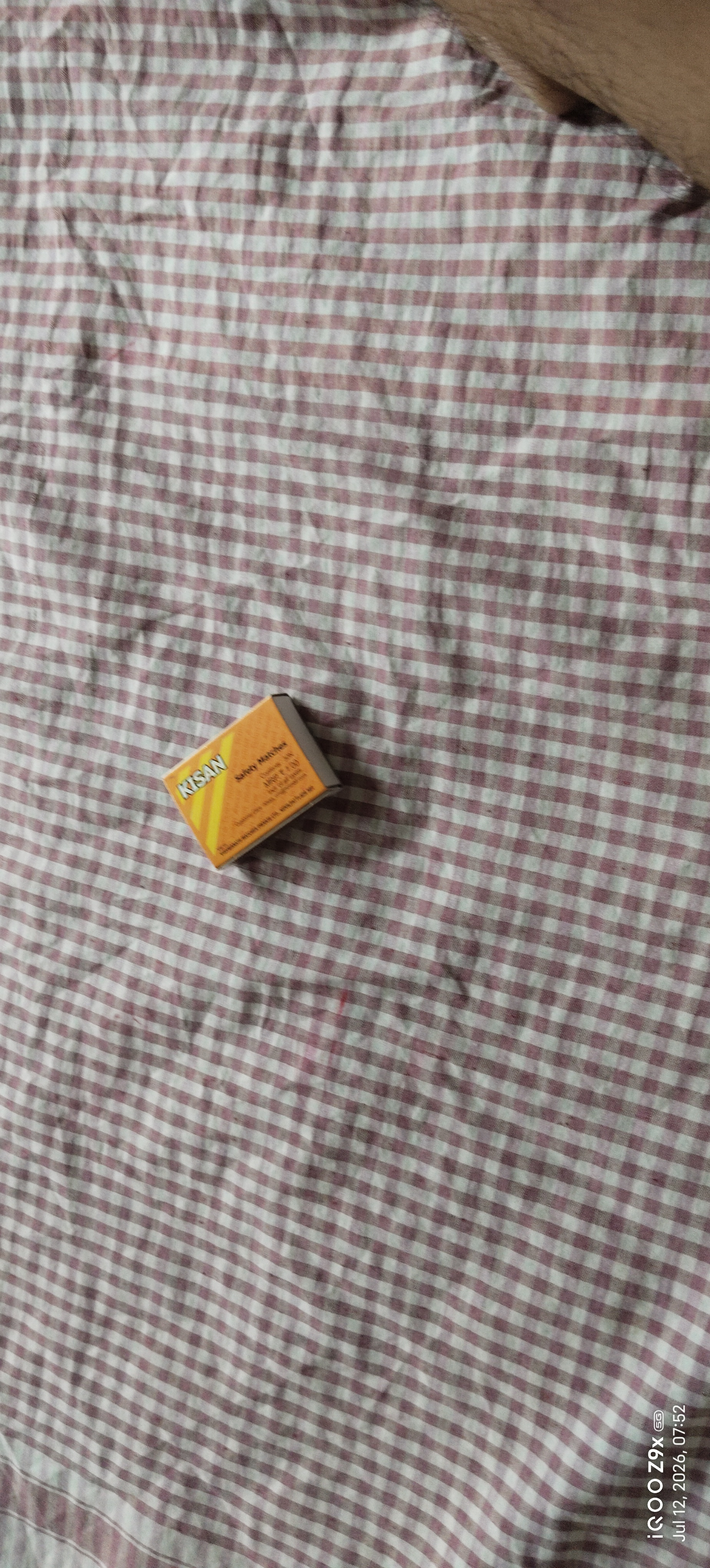matchbox: (113, 632, 359, 927)
